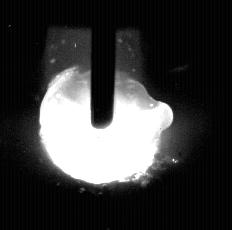arame: (91, 0, 116, 129)
poca: (38, 0, 163, 230)
